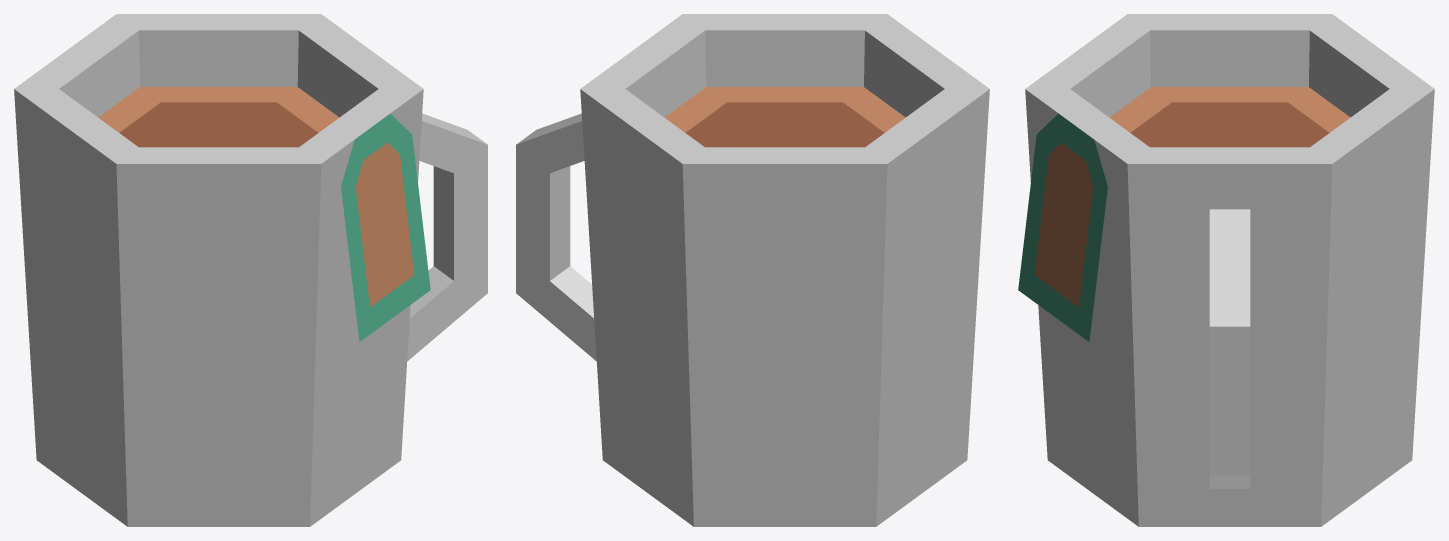
Rendered from cupThea.fbx.
3 views of the same model, side by side, from view 1: azimuth 30°, elevation 25°; view 2: azimuth 150°, elevation 25°; view 3: azimuth 270°, elevation 25° (orthographic).
Visible parts, largest first — view 1: cupThea, label; view 2: cupThea; view 3: cupThea, label.
Part boxes in pixels (x1,y1,x2,y2): cupThea: (14,14,487,526); label: (341,113,430,341); cupThea: (516,14,989,526); cupThea: (1025,14,1434,526); label: (1018,113,1107,341).
Bounding box in the file's own units: 2.32 × 2 × 2.03.
